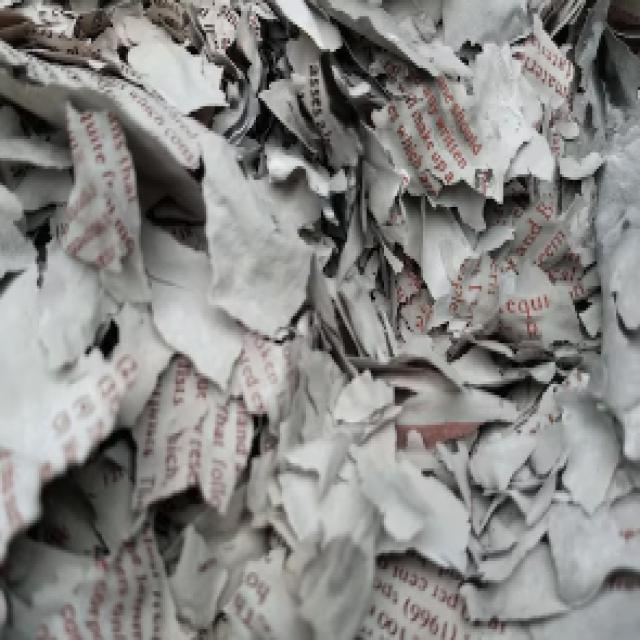Koran: (0, 0, 638, 637)
